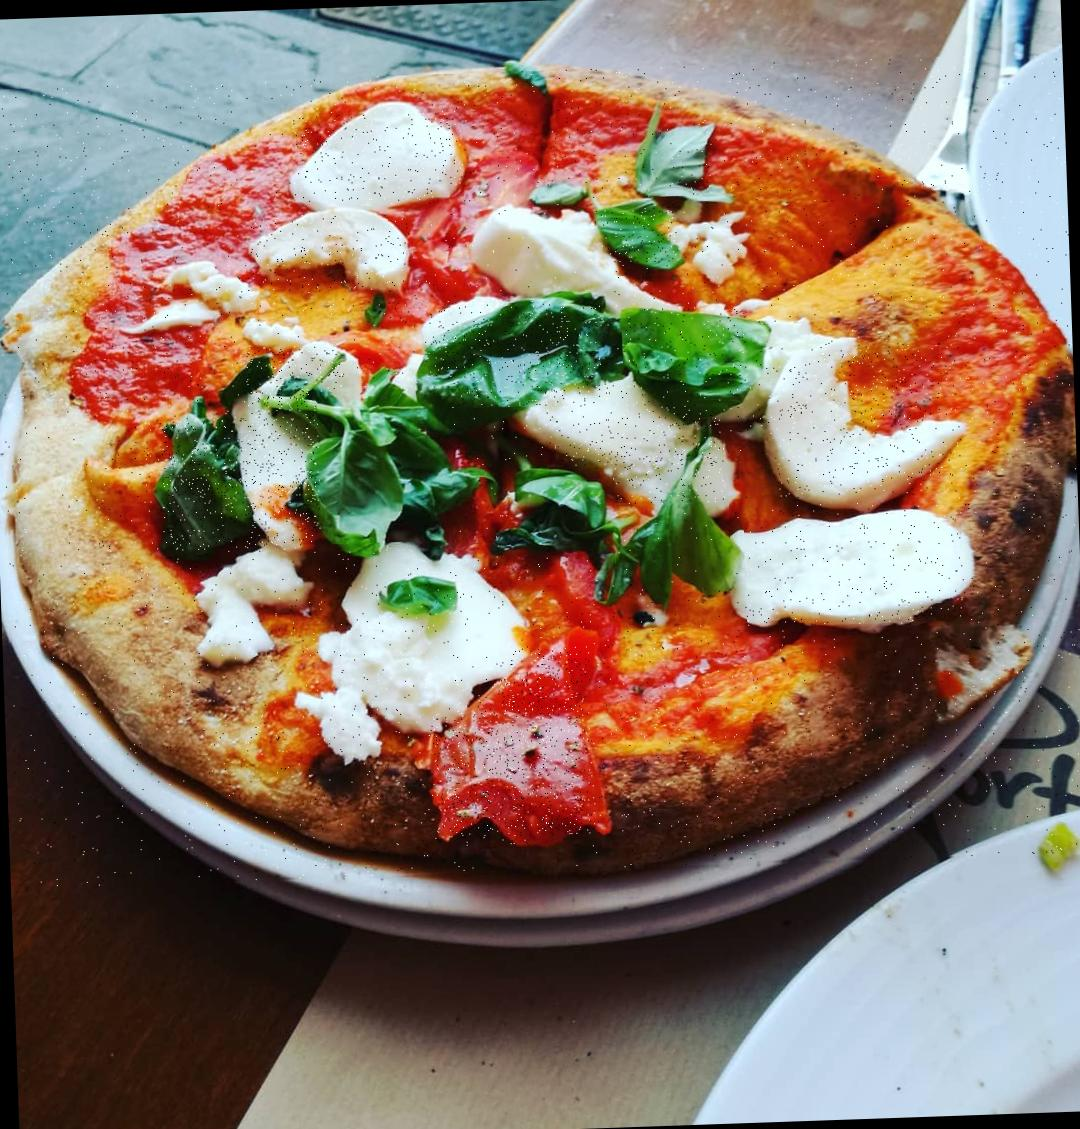Basil: (318, 389, 456, 543), (427, 300, 608, 408), (622, 305, 754, 413), (160, 418, 253, 551), (613, 501, 732, 594), (509, 464, 616, 556), (600, 204, 677, 264), (646, 132, 710, 197)
Cheese: (775, 343, 963, 498), (338, 544, 501, 717), (537, 379, 726, 507), (745, 519, 966, 627), (247, 345, 351, 546), (291, 110, 464, 202), (252, 212, 410, 293), (472, 209, 617, 291)
Pizza: (0, 52, 1080, 889)
Tomatoes: (432, 646, 596, 839)
